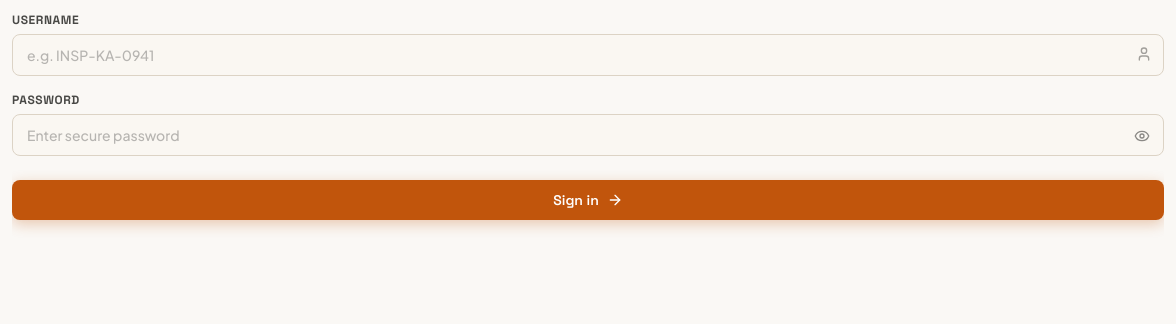
Scenario: login form › shows recovery guidance for an API error
Step 1. Type "inspector" into the field labelled "Username" → (588, 55), box [12,34,1164,76]
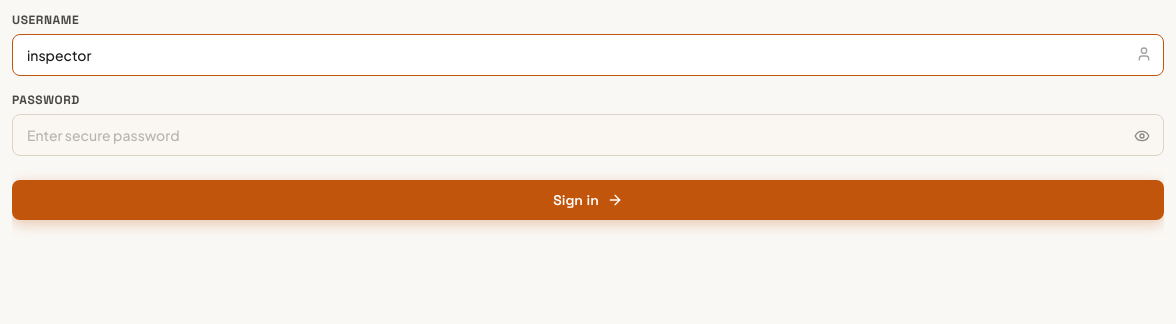
Step 2. Type "correct password" into the password field labelled "Password" → (588, 135), box [12,114,1164,156]
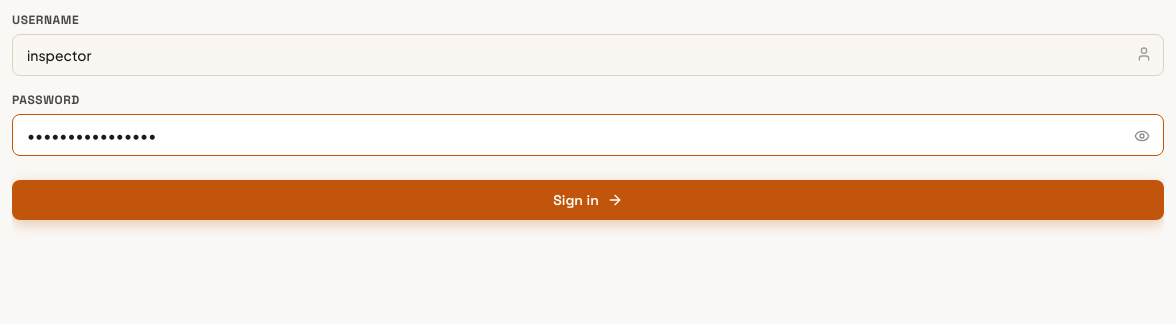
Step 3. Click the button "Sign in" → (588, 200), box [12,180,1164,220]
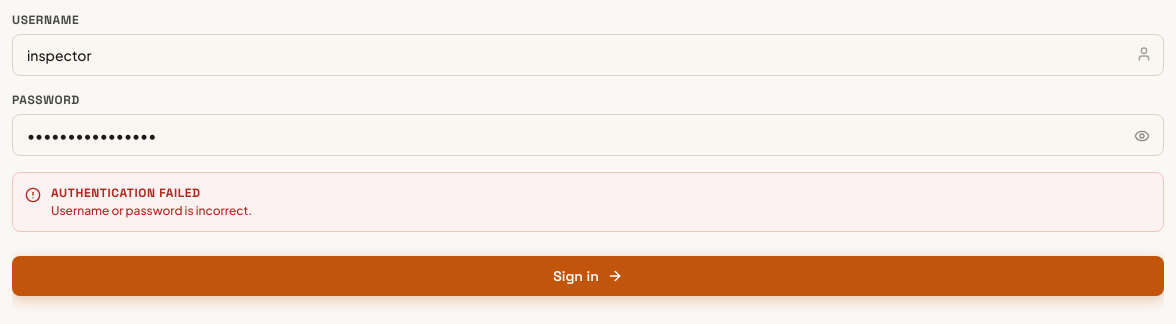
Now the message shows "Username or password is incorrect.", box [51,203,252,218]
